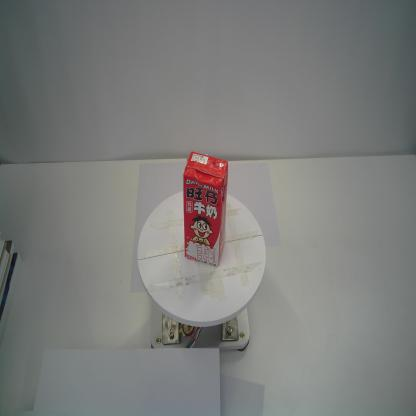Milk: (182, 151, 229, 268)
